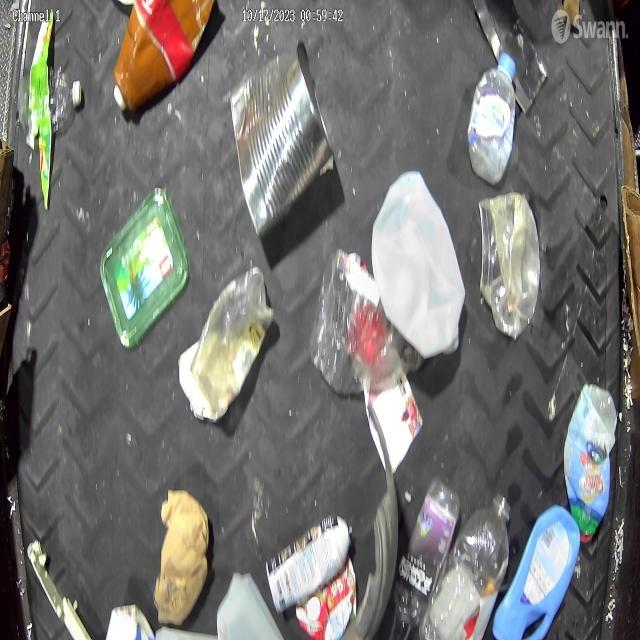milk_jug: (372, 168, 465, 355)
non_white_jug: (113, 0, 216, 114), (497, 502, 580, 638)
plastic_bottle: (426, 492, 510, 640), (398, 476, 463, 626), (468, 58, 518, 185)
